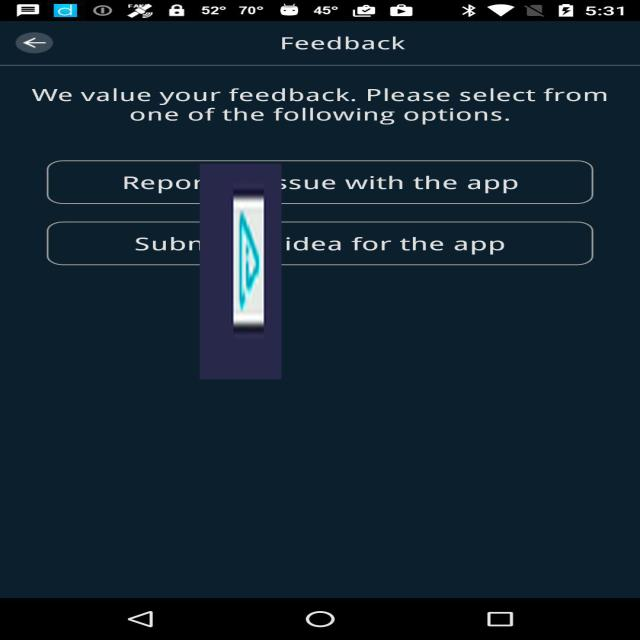sneaking: (200, 164, 282, 379)
